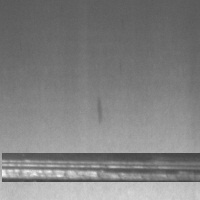inclusion: (93, 94, 108, 130)
scratches: (2, 153, 200, 182)
